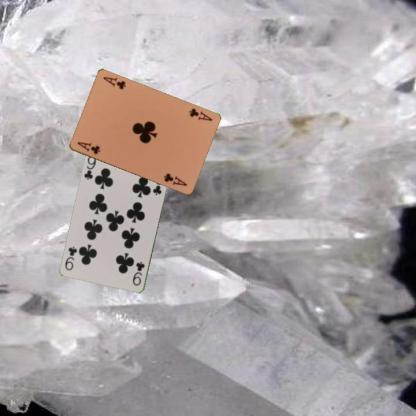9c: (130, 259, 146, 287), (82, 153, 97, 182)
Ac: (186, 106, 214, 122), (75, 140, 101, 156)
